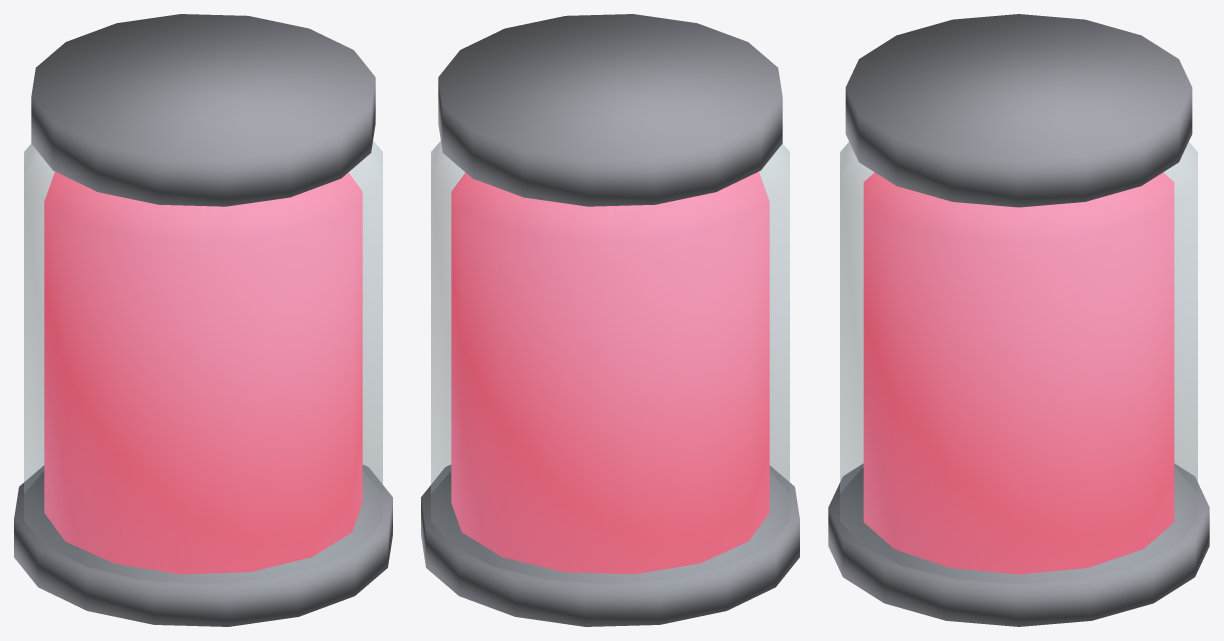
The model's file is specimen_jar_lungs.glb.
3 renders of one model, left to right at view 1: azimuth 30°, elevation 25°; view 2: azimuth 150°, elevation 25°; view 3: azimuth 270°, elevation 25°, orthographic.
Visible parts, largest first — view 1: GD_specimen_jar_lungs__m0, GD_specimen_jar_lungs__m1, GD_specimen_jar_lungs__m2; view 2: GD_specimen_jar_lungs__m0, GD_specimen_jar_lungs__m1, GD_specimen_jar_lungs__m2; view 3: GD_specimen_jar_lungs__m0, GD_specimen_jar_lungs__m1, GD_specimen_jar_lungs__m2.
Part boxes in pixels (x1,y1,x2,y2): GD_specimen_jar_lungs__m0: [24, 141, 382, 584]; GD_specimen_jar_lungs__m1: [44, 172, 362, 574]; GD_specimen_jar_lungs__m2: [14, 14, 392, 626]; GD_specimen_jar_lungs__m0: [431, 141, 789, 584]; GD_specimen_jar_lungs__m1: [451, 172, 769, 574]; GD_specimen_jar_lungs__m2: [421, 14, 799, 626]; GD_specimen_jar_lungs__m0: [840, 142, 1197, 583]; GD_specimen_jar_lungs__m1: [863, 172, 1174, 574]; GD_specimen_jar_lungs__m2: [828, 14, 1209, 626].
Bounding box in the file's own units: 0.22 × 0.2925 × 0.22.
